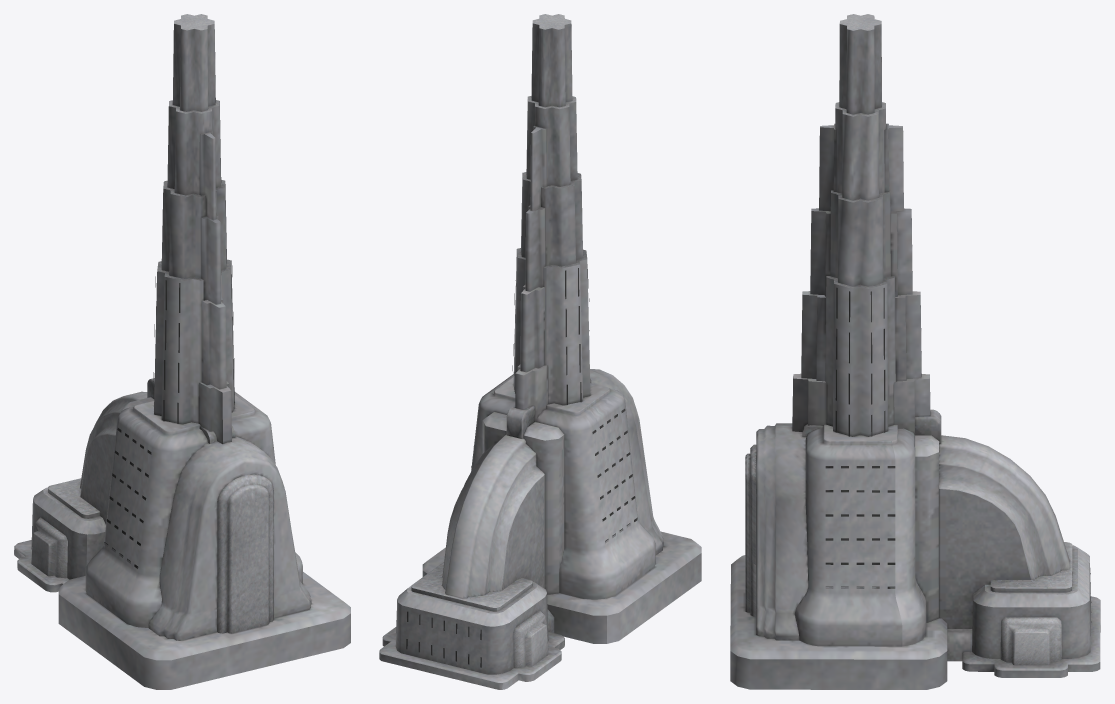
File: Building_Cout.fbx
3 views of the same model, side by side, from view 1: azimuth 30°, elevation 25°; view 2: azimuth 150°, elevation 25°; view 3: azimuth 270°, elevation 25° (orthographic). The views are drawn at different scales.
Parts seen in each view (by area): view 1: mesh0; view 2: mesh0; view 3: mesh0.
Part boxes in pixels (x1,y1,x2,y2): mesh0: [14, 14, 350, 689]; mesh0: [379, 14, 701, 689]; mesh0: [730, 14, 1100, 689].
Bounding box in the file's own units: 52.35 × 145 × 79.14.
